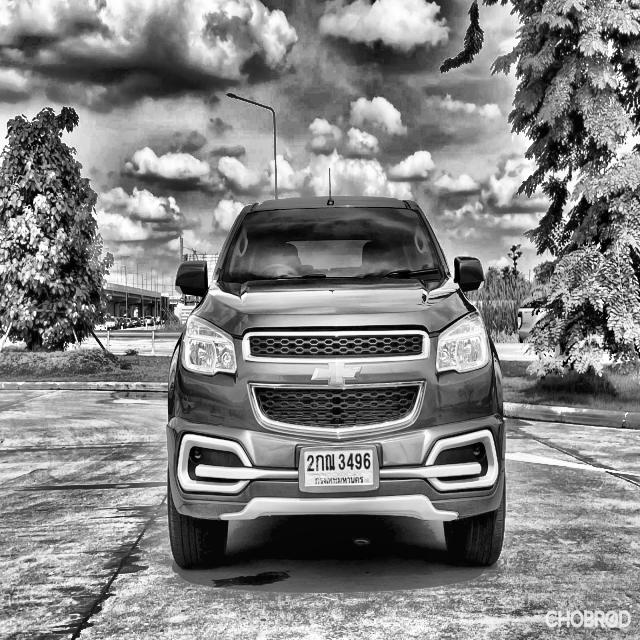license-plate: (296, 446, 383, 492)
